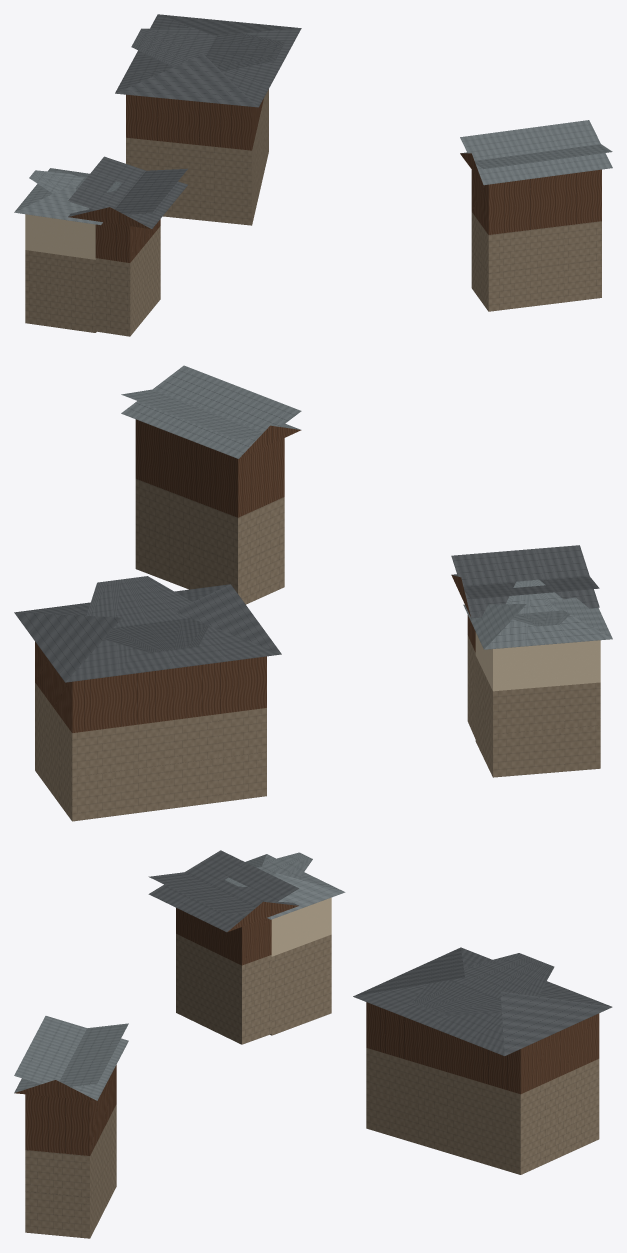
Rendered from bld_c10_10_493.gltf.
The picture shows the model from 3 angles, top to bottom: view 1: azimuth 30°, elevation 25°; view 2: azimuth 150°, elevation 25°; view 3: azimuth 270°, elevation 25°; orthographic projection. The views are drawn at different scales.
Visible parts, largest first — view 1: bld_c10_10_493; view 2: bld_c10_10_493; view 3: bld_c10_10_493.
Part boxes in pixels (box(x1,y1,x2,y2)): bld_c10_10_493: box(14, 14, 612, 336); bld_c10_10_493: box(14, 365, 612, 821); bld_c10_10_493: box(14, 850, 612, 1238).
Bounding box in the file's own units: 32.21 × 9.2 × 31.24.
Materials: 6 (6 with a texture image).
